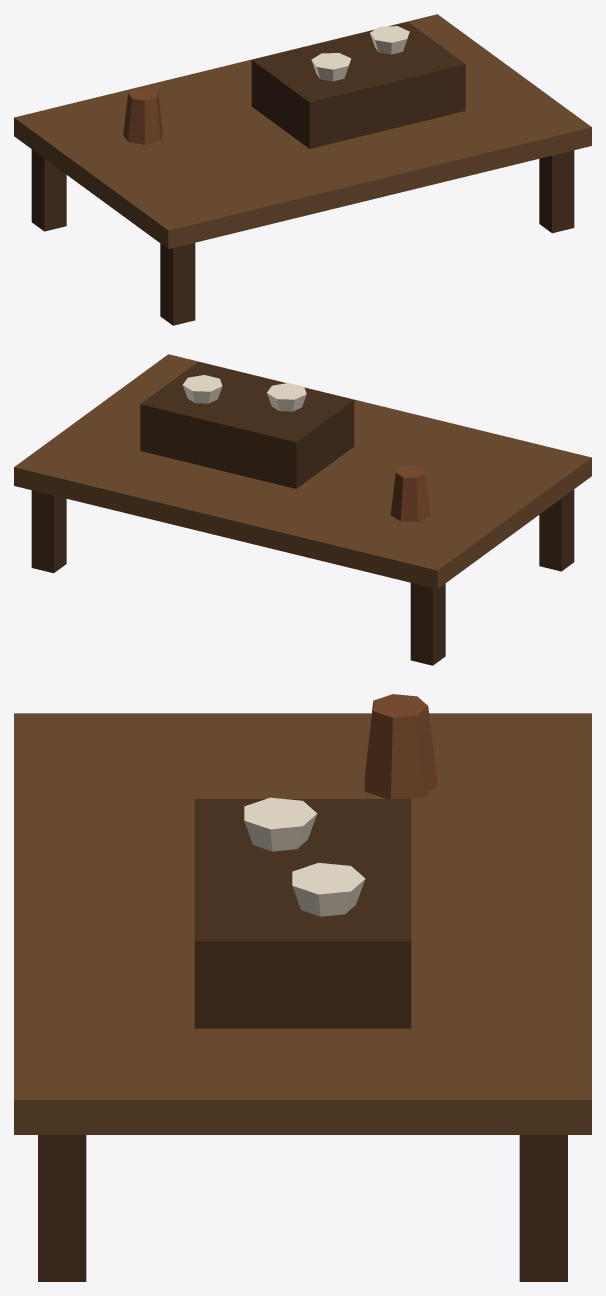
Rendered from prop_pyeongsang.glb.
3 views of the same model, one above another, from view 1: azimuth 30°, elevation 25°; view 2: azimuth 150°, elevation 25°; view 3: azimuth 270°, elevation 25° (orthographic). The views are drawn at different scales.
Visible parts, largest first — view 1: prop_pyeongsang; view 2: prop_pyeongsang; view 3: prop_pyeongsang.
Boxes of the visible parts, left/top/right/bottom form: prop_pyeongsang: left=14, top=14, right=591, bottom=325; prop_pyeongsang: left=14, top=354, right=591, bottom=665; prop_pyeongsang: left=14, top=694, right=591, bottom=1281.
Size of the model in its own units: 1.9 by 0.7 by 1.2.
